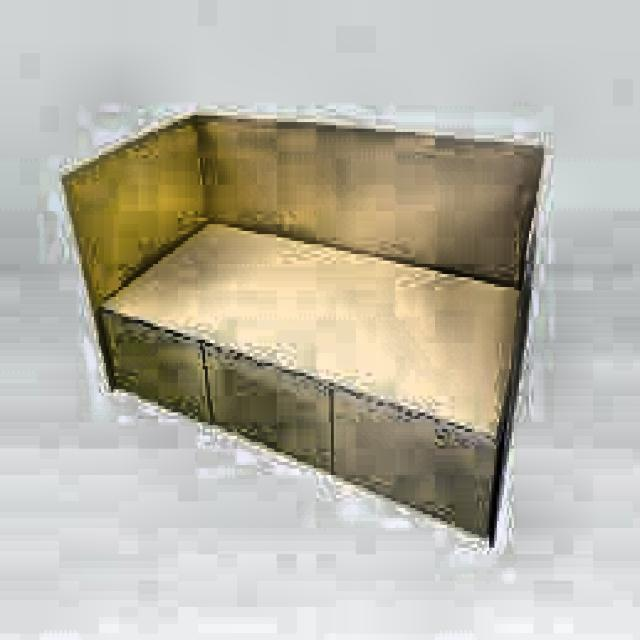cardboard: (59, 108, 551, 548)
